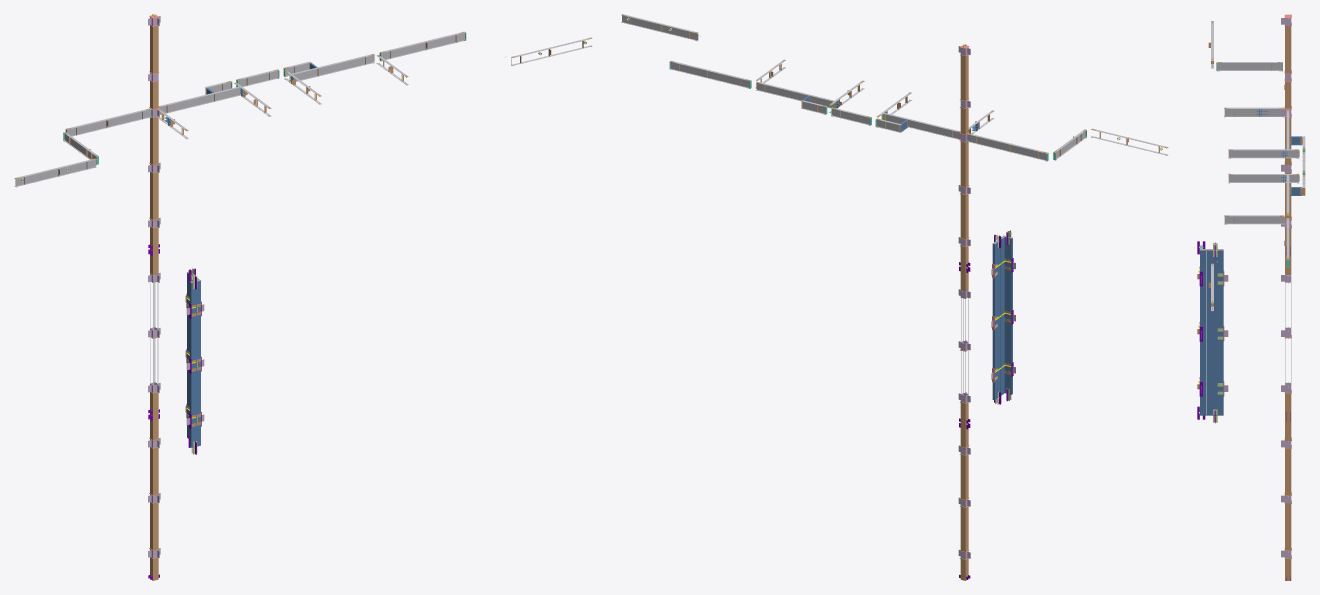
3 renders of one model, left to right at view 1: azimuth 30°, elevation 25°; view 2: azimuth 150°, elevation 25°; view 3: azimuth 270°, elevation 25°, orthographic. The views are drawn at different scales.
Parts seen in each view (by area): view 1: 18-7GL[1WcTF5000FkJ4sCZ0sEJOs], 18-7GL[1WcTF50004xp4sCZ0sEJGs], 18-7GL[1WcTF500000p4sCZ0sEJCv], 18-7GL[1WcTF5000CE34sCZ0sEJKu], 18-7GL[1WcTF5000FiJ4sCZ0sEJOs]; view 2: 18-7GL[1WcTF5000FkJ4sCZ0sEJOs], 18-7GL[1WcTF50004xp4sCZ0sEJGs], 18-7GL[1WcTF5000JSp4sCZ0sEJSm], 18-6GSQ[1WbTrB00BDf34sCZ0qD3Oo]; view 3: 18-6GSQ[1WbTrB00Br_p4sCZ0qDJ0v], 18-6GSQ[1WbTrB00CbOp4sCZ0qDJ4v], 18-6GSQ[1WbTrB00CcGp4sCZ0qDJ4v], 18-7GL[1WcTF50008SJ4sCZ0sEJKp], 18-6GSQ[1WbTrB00Cclp4sCZ0qDJ4v], 18-6GSQ[1WbTrB00CcSJ4sCZ0qDJ4v], 18-7GL[1WcTF5000Azp4sCZ0sEJKt], 18-7GL[1WcTF5000HUZ4sCZ0sEJOt], 18-7GL[1WcTF500039J4sCZ0sEJGp], 18-7GL[1WcTF50007SZ4sCZ0sEJKn], 18-6GSQ[1WbTrB00BEOp4sCZ0qD3Oo], 18-7GZ[1WcoDK00081p4sCZ0tE38n] (+7 smaller).
Boxes of the visible parts, x1,y1,x2,y2 form: 18-7GL[1WcTF5000FkJ4sCZ0sEJOs]: [380, 31, 465, 60]; 18-7GL[1WcTF50004xp4sCZ0sEJGs]: [66, 109, 151, 136]; 18-7GL[1WcTF500000p4sCZ0sEJCv]: [15, 159, 96, 186]; 18-7GL[1WcTF5000CE34sCZ0sEJKu]: [158, 86, 239, 114]; 18-7GL[1WcTF5000FiJ4sCZ0sEJOs]: [292, 54, 374, 81]; 18-7GL[1WcTF5000FkJ4sCZ0sEJOs]: [670, 60, 751, 88]; 18-7GL[1WcTF50004xp4sCZ0sEJGs]: [967, 134, 1048, 160]; 18-7GL[1WcTF5000JSp4sCZ0sEJSm]: [621, 15, 698, 40]; 18-6GSQ[1WbTrB00BDf34sCZ0qD3Oo]: [1004, 237, 1008, 393]; 18-6GSQ[1WbTrB00Br_p4sCZ0qDJ0v]: [1202, 250, 1206, 415]; 18-6GSQ[1WbTrB00CbOp4sCZ0qDJ4v]: [1219, 250, 1223, 415]; 18-6GSQ[1WbTrB00CcGp4sCZ0qDJ4v]: [1215, 250, 1219, 415]; 18-7GL[1WcTF50008SJ4sCZ0sEJKp]: [1228, 149, 1299, 158]; 18-6GSQ[1WbTrB00Cclp4sCZ0qDJ4v]: [1207, 250, 1210, 415]; 18-6GSQ[1WbTrB00CcSJ4sCZ0qDJ4v]: [1211, 250, 1215, 415]; 18-7GL[1WcTF5000Azp4sCZ0sEJKt]: [1228, 174, 1299, 182]; 18-7GL[1WcTF5000HUZ4sCZ0sEJOt]: [1224, 215, 1284, 224]; 18-7GL[1WcTF500039J4sCZ0sEJGp]: [1216, 62, 1282, 70]; 18-7GL[1WcTF50007SZ4sCZ0sEJKn]: [1224, 107, 1284, 116]; 18-6GSQ[1WbTrB00BEOp4sCZ0qD3Oo]: [1200, 250, 1202, 415]; 18-7GZ[1WcoDK00081p4sCZ0tE38n]: [1285, 26, 1291, 73].
Bounding box in the file's own units: 31.8 × 29.72 × 5.18.
